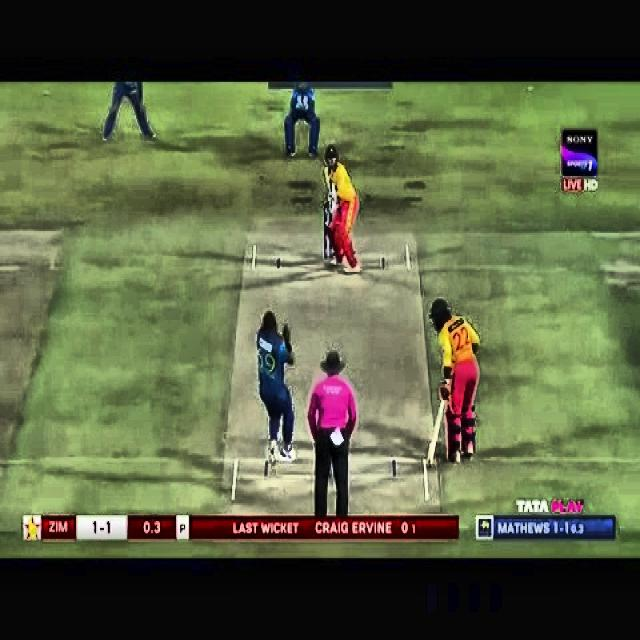Left-stump: (324, 204, 328, 258)
Middle-stump: (329, 241, 334, 257)
